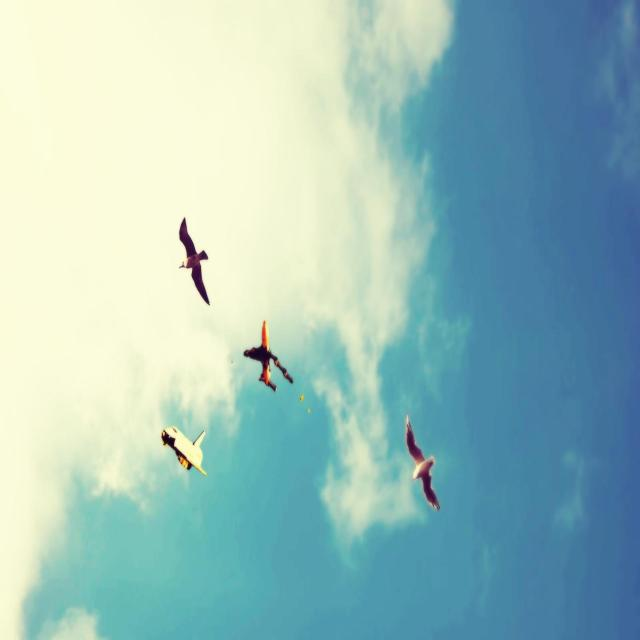airplane: (243, 319, 293, 392), (160, 425, 207, 476)
